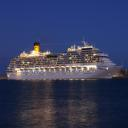cruises: (6, 40, 125, 82)
